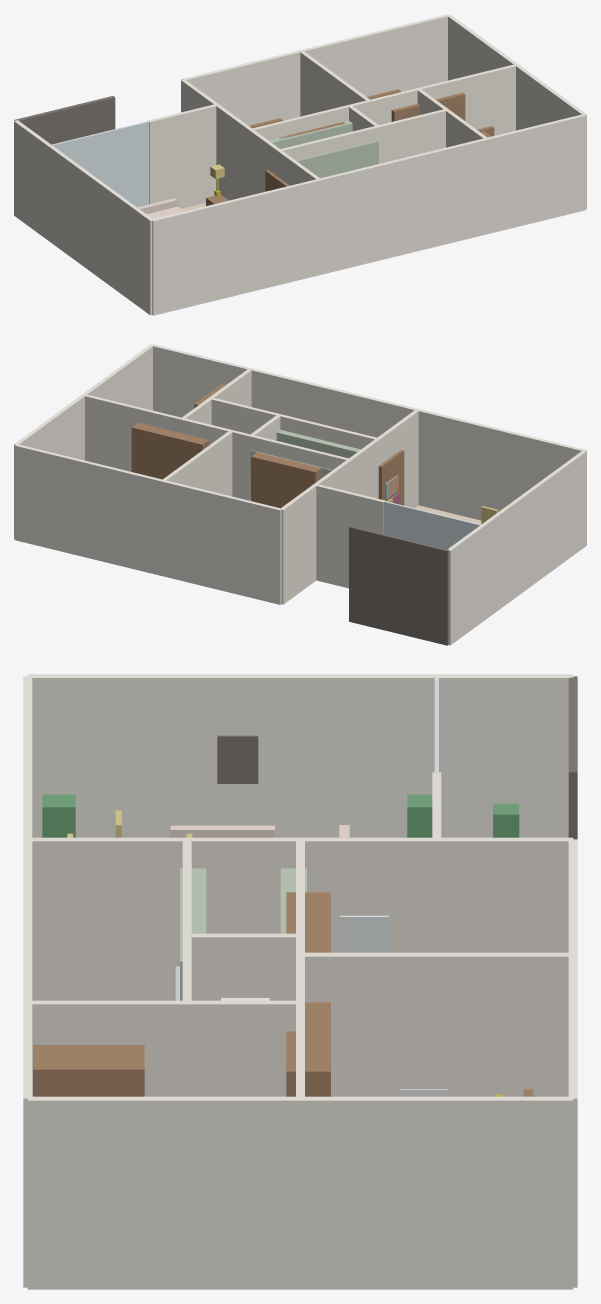
File: apartment_wesanderson.glb
The picture shows the model from 3 angles, top to bottom: view 1: azimuth 30°, elevation 25°; view 2: azimuth 150°, elevation 25°; view 3: azimuth 270°, elevation 25°; orthographic projection. The views are drawn at different scales.
Visible parts, largest first — view 1: OWall_N, OWall_W, OWall_S_Beds, IWall_BedKitBot, IWall_BalcHall_wall, IWall_HallBeds, OWall_E, IWall_BalcHall_glass, OWall_Balcony_S, IWall_BathS, IWall_MBedAB, Kit_UppN (+5 smaller); view 2: OWall_S_Beds, OWall_N, OWall_W, OWall_Balcony_S, IWall_HallBeds, IWall_BedKitBot, OWall_E, IWall_BalcHall_wall, MBedB_Wardrobe, MBedA_Wardrobe, IWall_BalcHall_glass, IWall_MBedAB (+6 smaller); view 3: OWall_E, OWall_W, IWall_HallBeds, IWall_MBedAB, IWall_BathBed2, IWall_KitBath, Bed2_Wardrobe, OWall_N, OWall_S_Beds, MBedB_Wardrobe, IWall_BedKitBot, Art1_Frame (+9 smaller).
Part boxes in pixels (x1,y1,x2,y2): OWall_N: [151, 114, 586, 315]; OWall_W: [14, 120, 152, 315]; OWall_S_Beds: [182, 14, 449, 125]; IWall_BedKitBot: [252, 64, 515, 139]; IWall_BalcHall_wall: [147, 104, 216, 208]; IWall_HallBeds: [181, 79, 320, 200]; OWall_E: [448, 14, 586, 208]; IWall_BalcHall_glass: [49, 121, 148, 207]; OWall_Balcony_S: [14, 96, 115, 144]; IWall_BathS: [378, 109, 447, 163]; IWall_MBedAB: [300, 50, 370, 116]; Kit_UppN: [297, 141, 378, 178]; OWall_S_Beds: [14, 444, 281, 604]; OWall_N: [152, 344, 586, 520]; OWall_W: [448, 450, 586, 645]; OWall_Balcony_S: [349, 525, 448, 645]; IWall_HallBeds: [280, 410, 418, 604]; IWall_BedKitBot: [83, 394, 348, 500]; OWall_E: [14, 344, 153, 538]; IWall_BalcHall_wall: [316, 484, 384, 588]; MBedB_Wardrobe: [131, 422, 209, 479]; MBedA_Wardrobe: [251, 452, 321, 508]; IWall_BalcHall_glass: [383, 501, 480, 548]; IWall_MBedAB: [162, 430, 232, 496]; OWall_E: [27, 1096, 573, 1289]; OWall_W: [27, 674, 573, 837]; IWall_HallBeds: [27, 837, 573, 1000]; IWall_MBedAB: [300, 952, 570, 1096]; IWall_BathBed2: [27, 1000, 296, 1096]; IWall_KitBath: [188, 933, 295, 1000]; Bed2_Wardrobe: [33, 1045, 144, 1096]; OWall_N: [23, 676, 32, 1287]; OWall_S_Beds: [568, 839, 577, 1287]; MBedB_Wardrobe: [286, 1002, 330, 1096]; IWall_BedKitBot: [296, 839, 304, 1097]; Art1_Frame: [217, 735, 258, 783].
Bounding box in the file's own units: 13.53 × 2.8 × 7.44.
